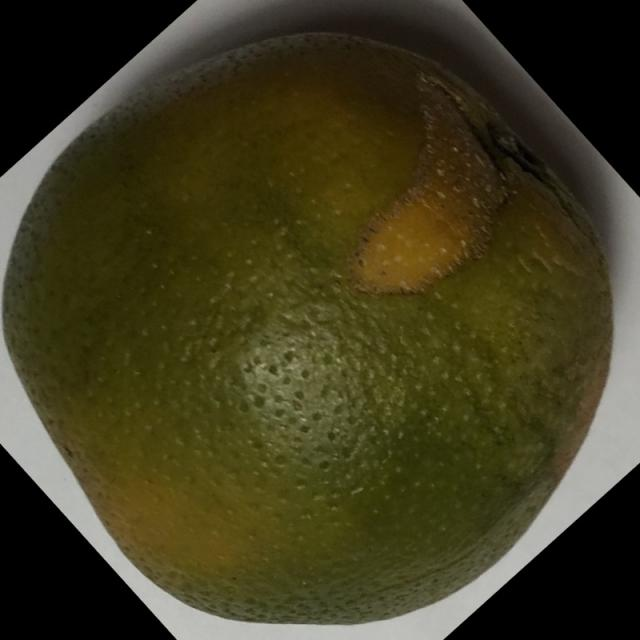canker: (4, 8, 631, 638)
